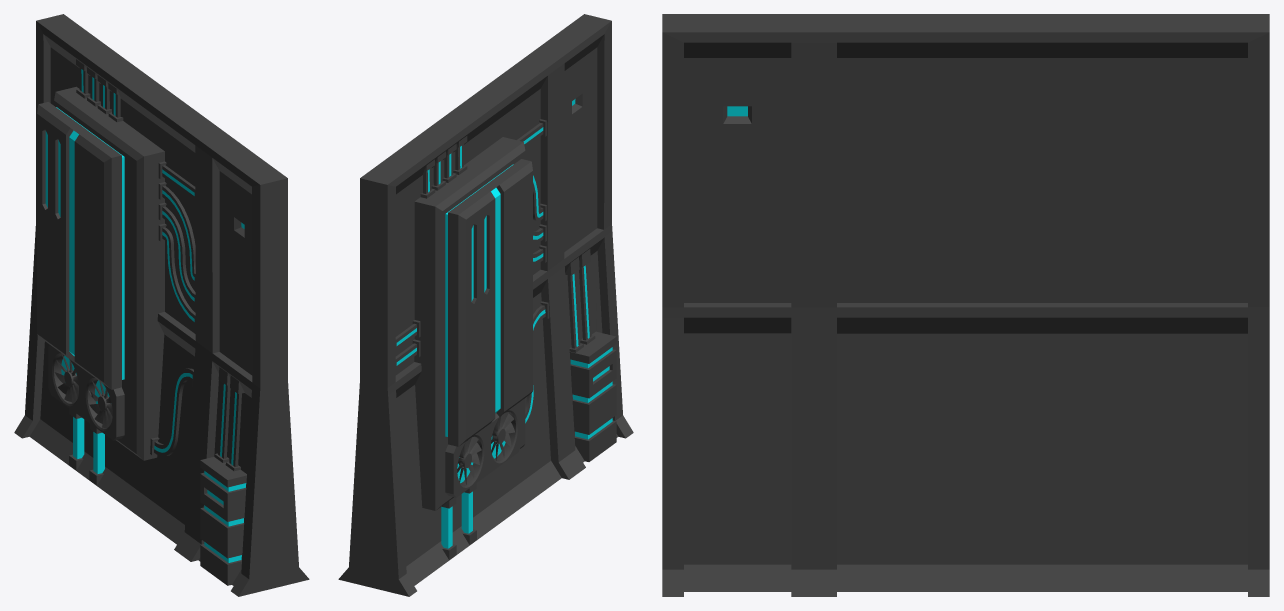
Rendered from Modular wall deco GPU.fbx.
3 renders of one model, left to right at view 1: azimuth 30°, elevation 25°; view 2: azimuth 150°, elevation 25°; view 3: azimuth 270°, elevation 25°, orthographic. The views are drawn at different scales.
Parts seen in each view (by area): view 1: Modular Wall deco GPU; view 2: Modular Wall deco GPU; view 3: Modular Wall deco GPU.
Part boxes in pixels (x1=…): Modular Wall deco GPU: x1=14, y1=14, x2=309, y2=596; Modular Wall deco GPU: x1=338, y1=14, x2=633, y2=596; Modular Wall deco GPU: x1=662, y1=14, x2=1269, y2=596.
Size of the model in its own units: 90.83 by 400 by 400.
